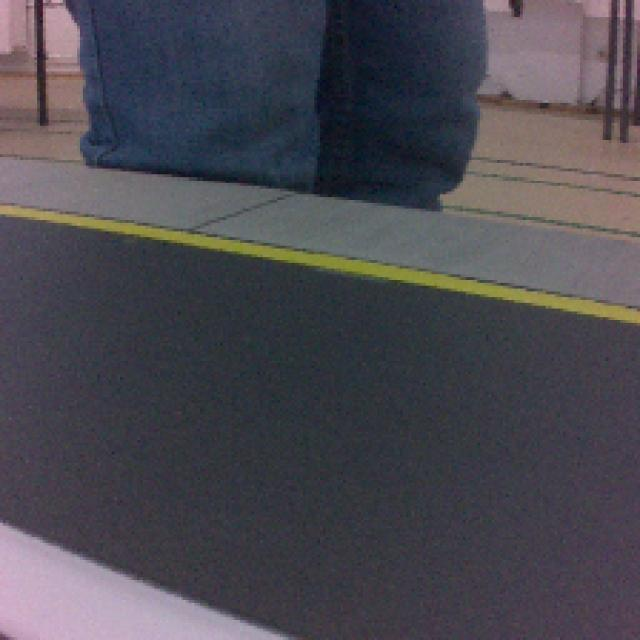Guard rail: (0, 528, 285, 640)
